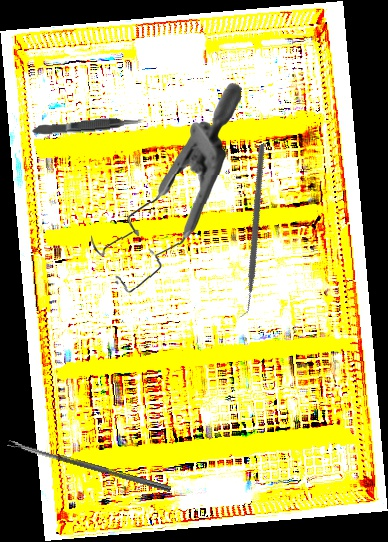Chopper: (168, 142, 331, 321)
Speculum: (89, 78, 242, 299)
Surgical Spoon: (7, 438, 172, 493)
Tissue Forceps: (31, 115, 145, 136)
